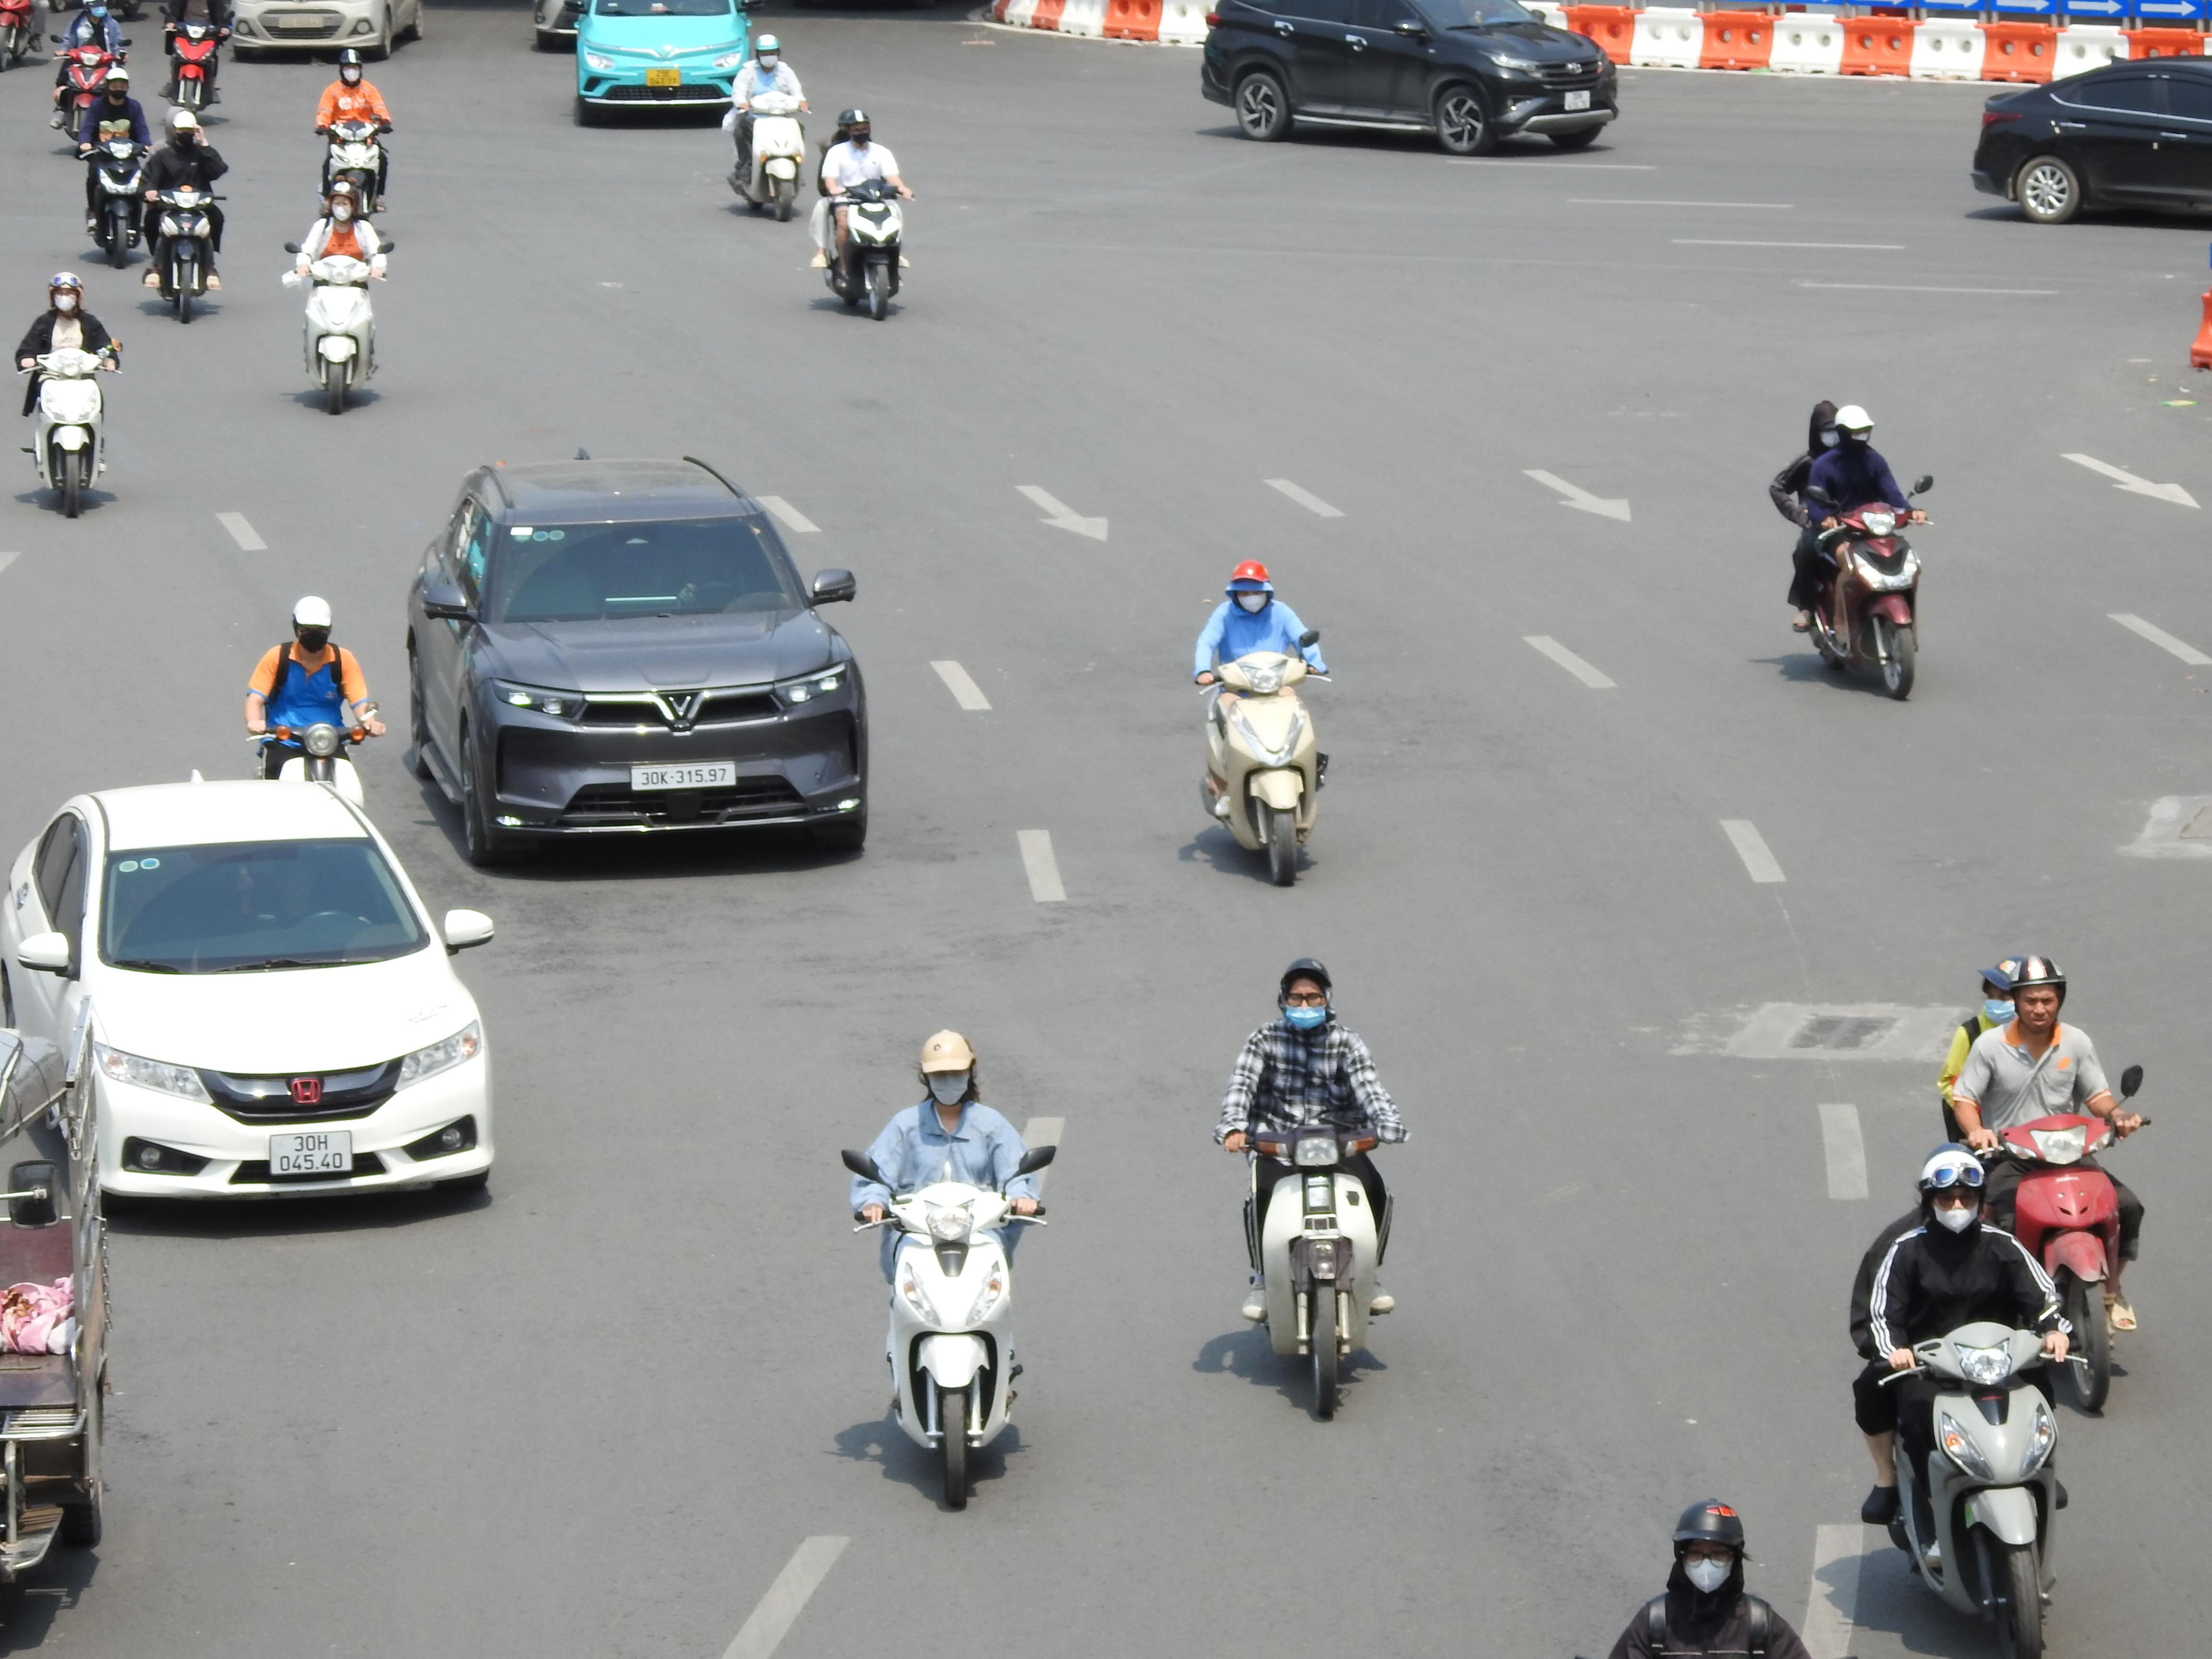BSD: (632, 762, 737, 791)
BSV: (270, 1131, 352, 1176), (646, 68, 681, 87), (1564, 89, 1592, 110)
car: (2, 772, 498, 1215), (401, 450, 873, 870), (1200, 0, 1622, 157), (1970, 56, 2212, 230), (571, 0, 758, 125), (225, 0, 425, 63)
motorbike: (1850, 1143, 2074, 1659), (843, 1028, 1057, 1511), (1940, 953, 2149, 1413), (1217, 957, 1404, 1422), (1773, 399, 1930, 704), (1195, 559, 1331, 889), (1566, 1499, 1838, 1659), (247, 594, 378, 788), (17, 272, 118, 519), (287, 179, 387, 415), (817, 110, 911, 322), (141, 106, 228, 324), (723, 31, 810, 221), (78, 66, 155, 268), (314, 52, 392, 221), (51, 0, 131, 152), (160, 0, 232, 117), (0, 0, 47, 70)
